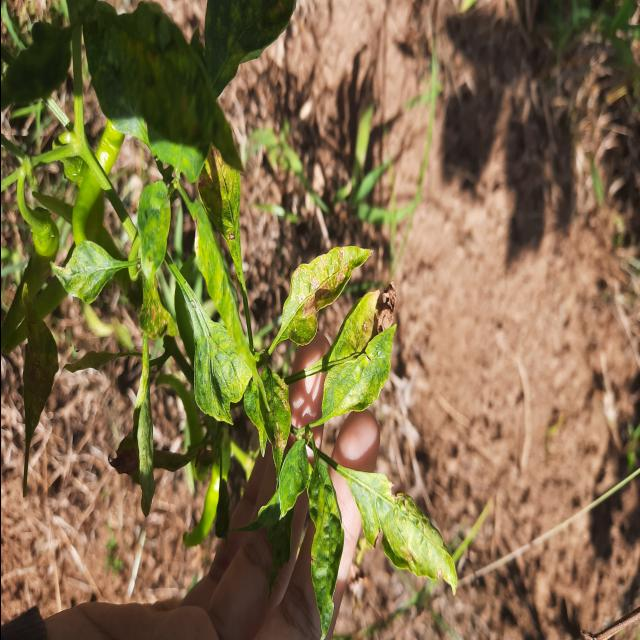bercak_daun: (278, 236, 376, 340), (326, 278, 408, 371)
